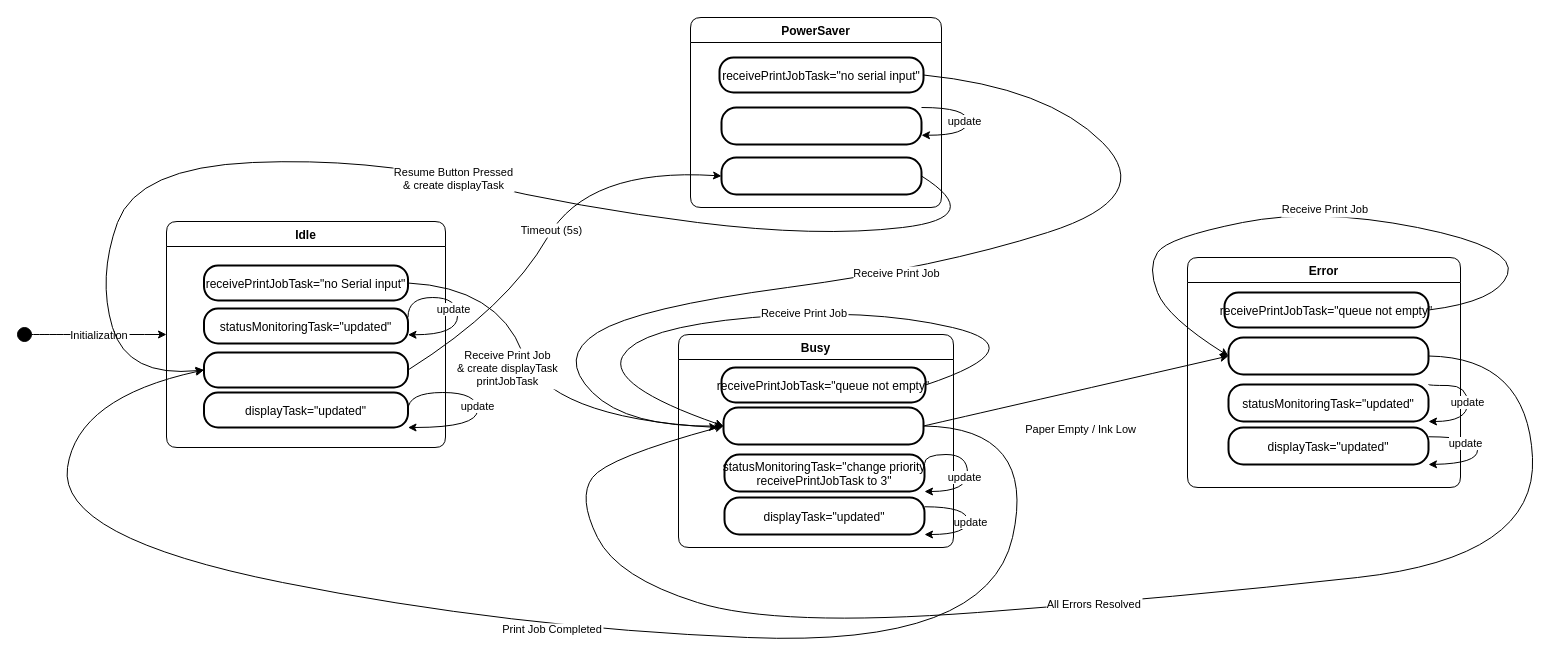
Some shapes in this 1551 by 656 pixel diagram are drawn without their labels. The centre of each missing label's shape, as x and y in pixels:
powerSaverTask="count idle time": the point at 305,369
powerSaverTask="delete printJobtask, displayTask": the point at 821,175
printJobTask="pause printing": the point at 1328,355
printJobTask="printing pages": the point at 823,425
statusMonitoringTask="change priority receivePrintJobTask to 1": the point at 821,125
